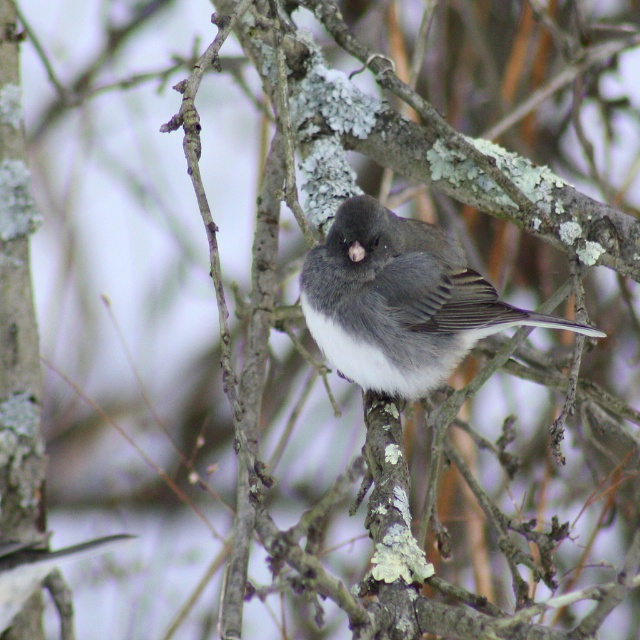Sparrow: (298, 194, 607, 412)
